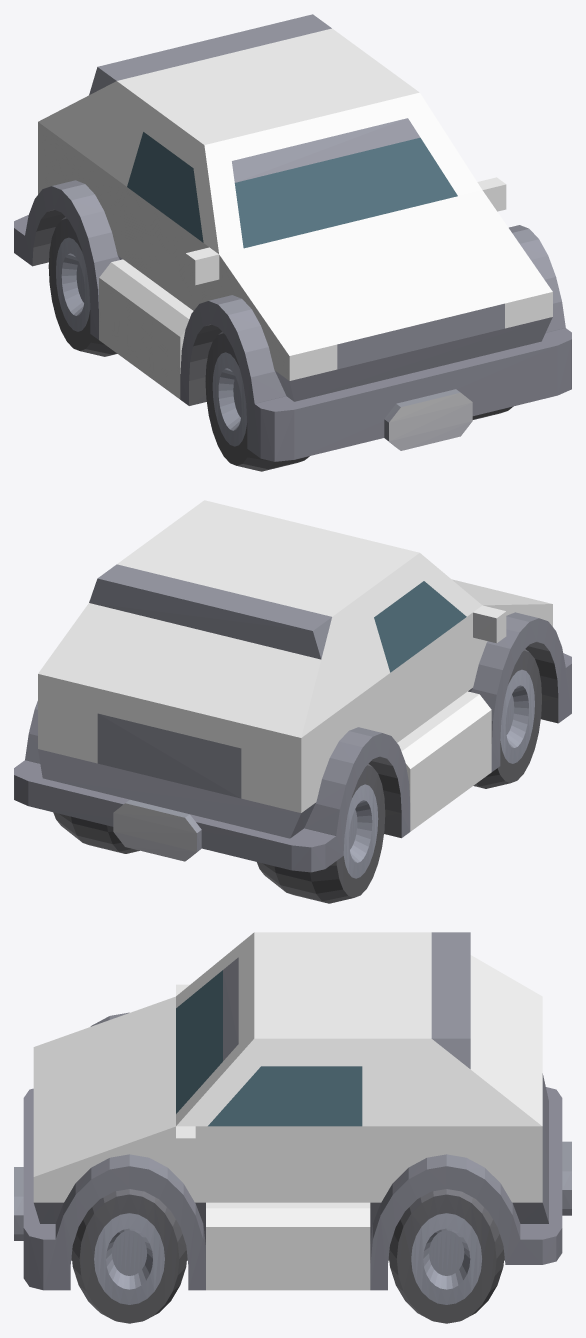
File: hatchback.glb
3 views of the same model, one above another, from view 1: azimuth 30°, elevation 25°; view 2: azimuth 150°, elevation 25°; view 3: azimuth 270°, elevation 25° (orthographic).
Parts seen in each view (by area): view 1: body, trim, head; view 2: body, trim, tail; view 3: body, trim, tail, head.
Part boxes in pixels (left/top/right/bottom): body: left=38, top=28, right=552, bottom=399; trim: left=14, top=14, right=571, bottom=471; head: left=280, top=292, right=552, bottom=380; body: left=38, top=500, right=552, bottom=831; trim: left=14, top=564, right=571, bottom=903; tail: left=38, top=639, right=310, bottom=737; body: left=33, top=932, right=542, bottom=1290; trim: left=14, top=932, right=571, bottom=1323; tail: left=508, top=976, right=542, bottom=1125; head: left=33, top=1177, right=52, bottom=1202.
Size of the model in its own units: 2.43 by 2.06 by 3.73.
